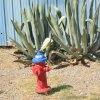a fire hydrant: (30, 51, 50, 94)
